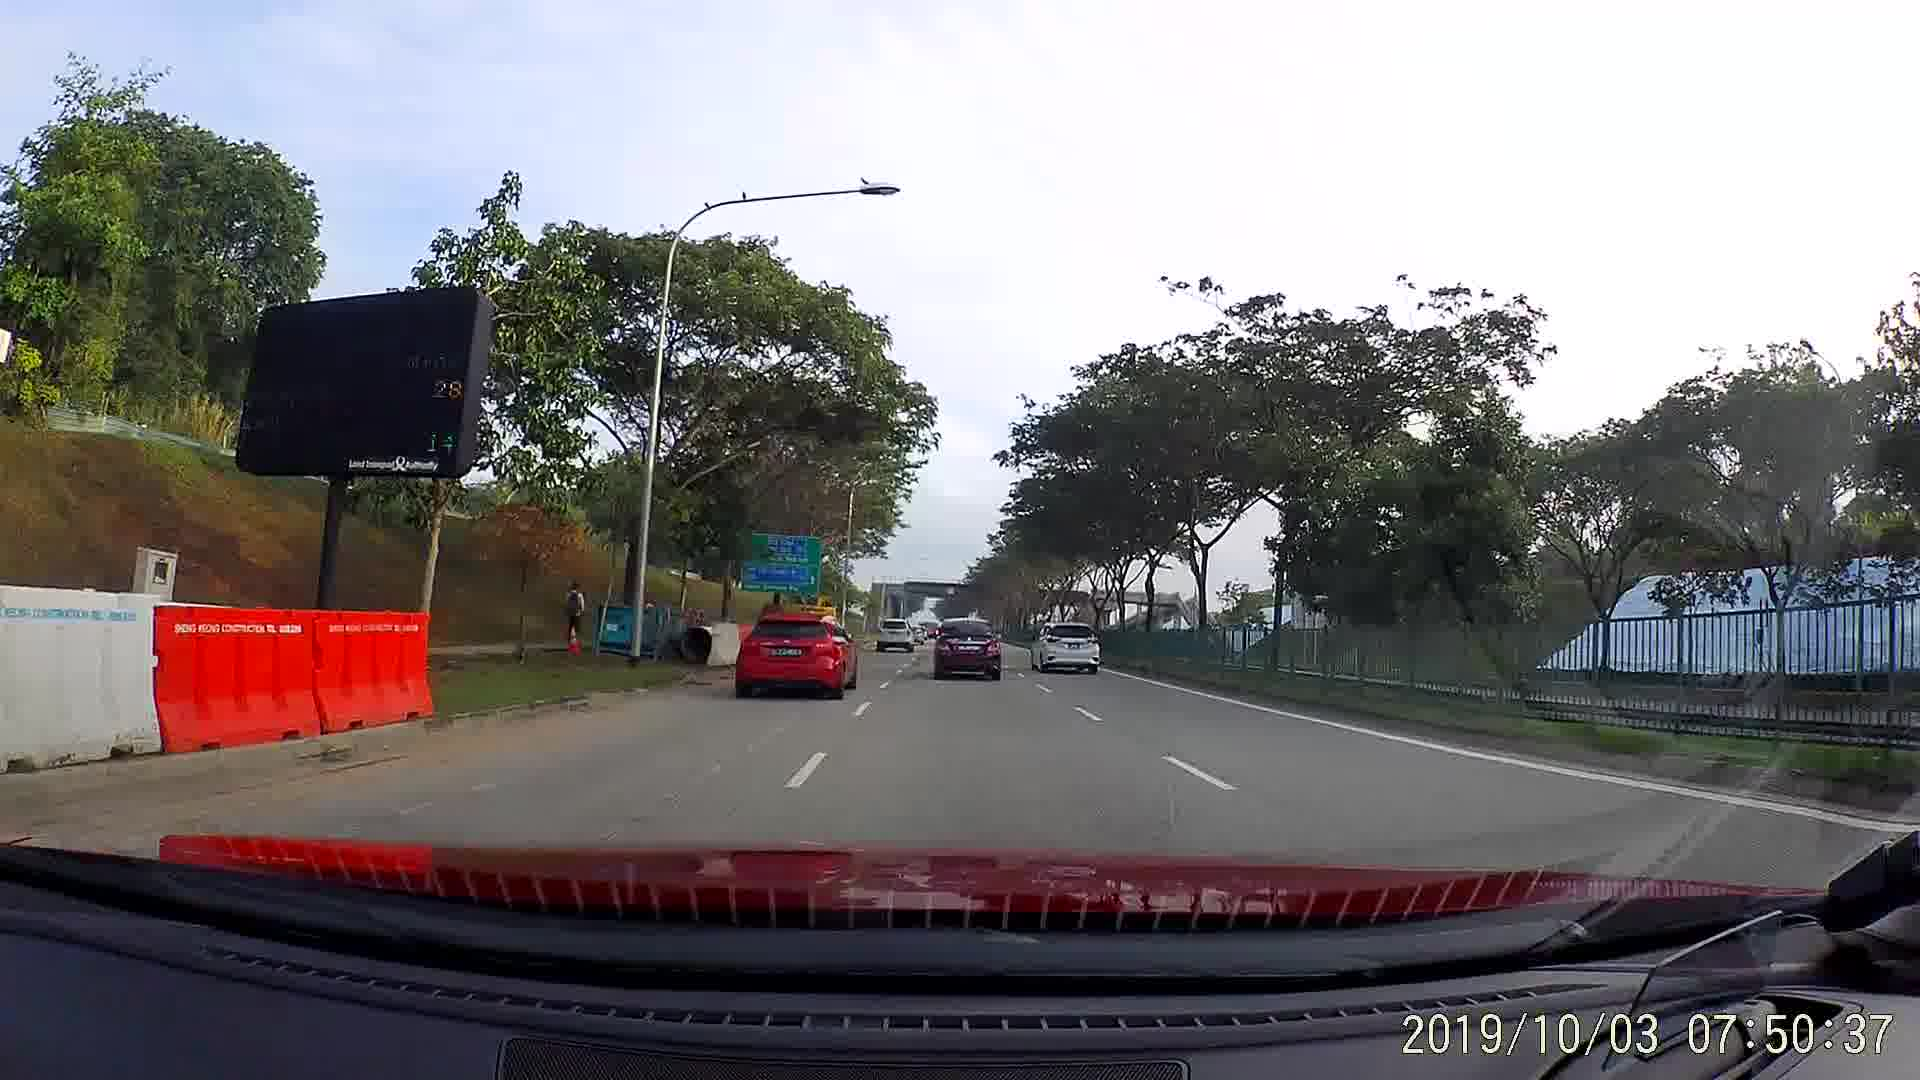car: (727, 603, 865, 707), (931, 611, 1007, 686), (1034, 622, 1101, 670), (869, 611, 922, 657)
